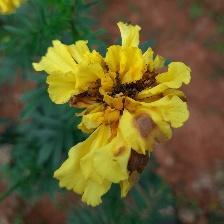marigold: (33, 22, 194, 198)
